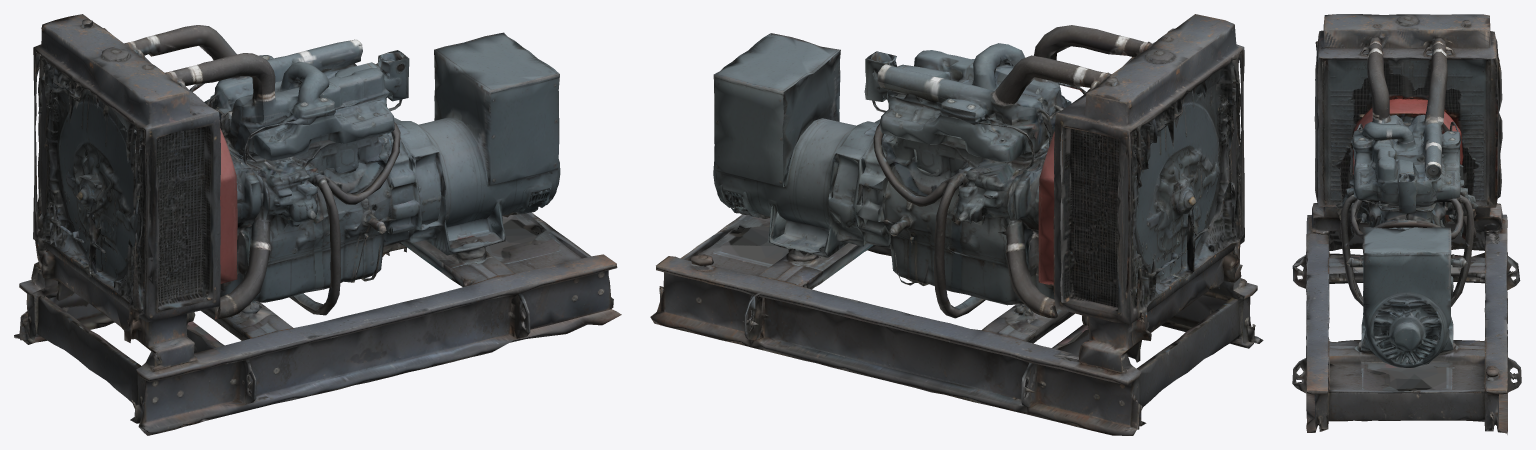
Rendered from B2_EmergencyGenerator.fbx.
The picture shows the model from 3 angles, left to right: view 1: azimuth 30°, elevation 25°; view 2: azimuth 150°, elevation 25°; view 3: azimuth 270°, elevation 25°; orthographic projection. The views are drawn at different scales.
Parts seen in each view (by area): view 1: texture_mapping; view 2: texture_mapping; view 3: texture_mapping.
Boxes of the visible parts, box(x1,y1,x2,y2) form: texture_mapping: box(14, 14, 621, 435); texture_mapping: box(650, 14, 1263, 435); texture_mapping: box(1292, 14, 1521, 434).
Size of the model in its own units: 275 by 180 by 147.
Materials: 1 (1 with a texture image).
